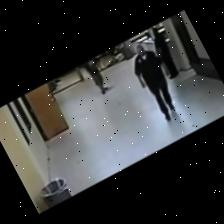person: (134, 46, 173, 121), (152, 28, 177, 79), (82, 60, 107, 94)
